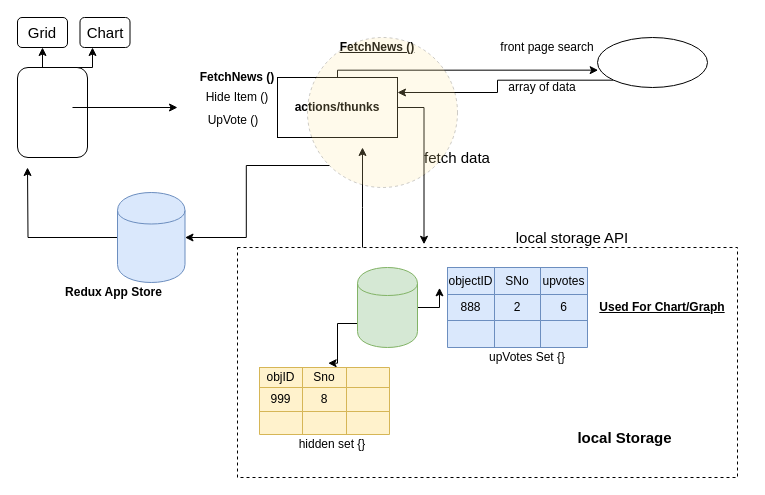
This 765x495 diagram has some shape labels left out. The centre of each missing label's shape, as x and y in pixels:
"API" belongs at pixel 652 62.
"App.js" belongs at pixel 52 112.
